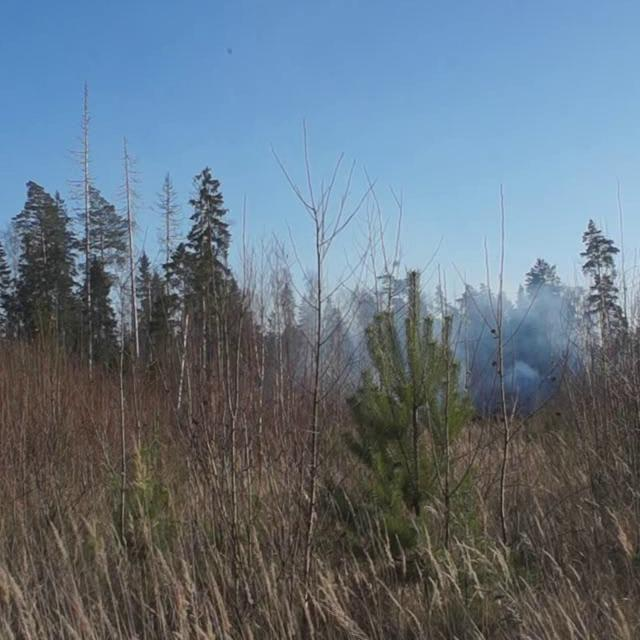Smoke: (302, 263, 592, 410)
